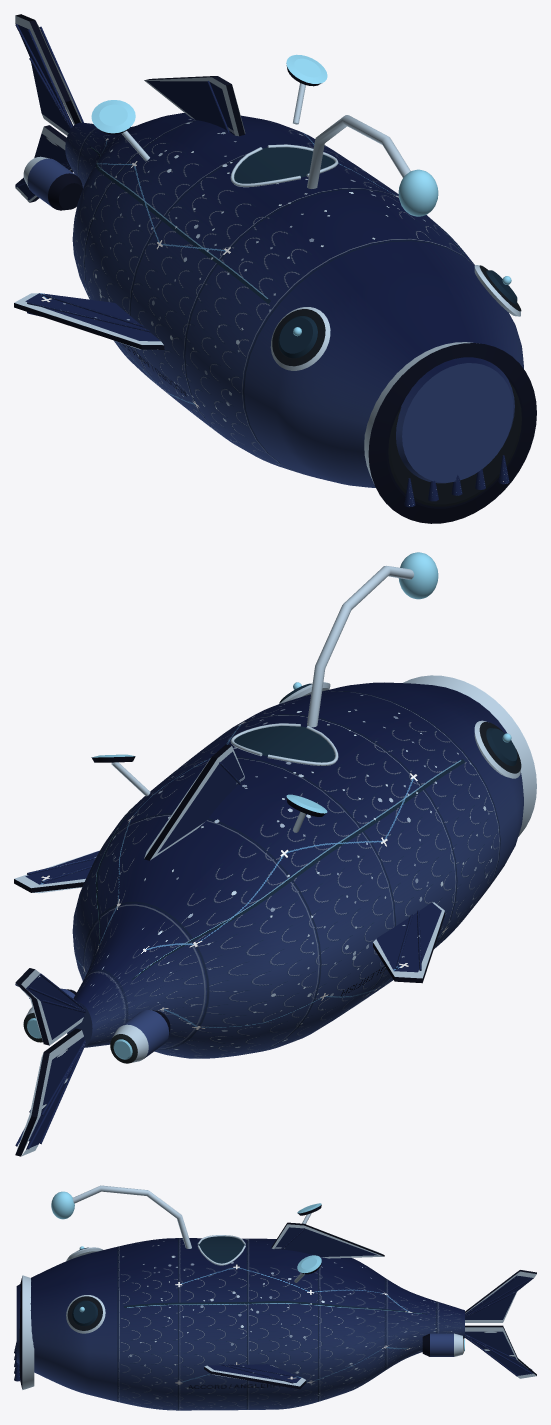
The picture shows the model from 3 angles, top to bottom: view 1: azimuth 30°, elevation 25°; view 2: azimuth 150°, elevation 25°; view 3: azimuth 270°, elevation 25°; orthographic projection. The views are drawn at different scales.
Visible parts, largest first — view 1: anglerfish_hull; view 2: anglerfish_hull; view 3: anglerfish_hull.
Boxes of the visible parts, x1,y1,x2,y2 form: anglerfish_hull: (14,14,536,523); anglerfish_hull: (14,552,536,1156); anglerfish_hull: (14,1185,536,1410).
Size of the model in its own units: 9.08 by 7.72 by 17.
1 material, 1 textured.
